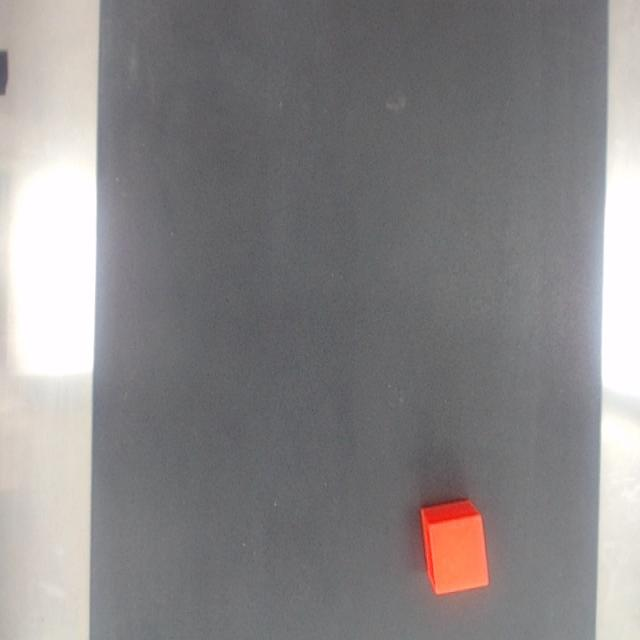Rojo: (419, 499, 489, 595)
